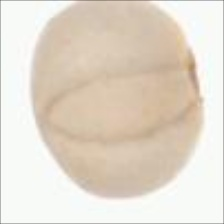L5: (42, 65, 196, 142), (178, 32, 206, 117)
L6: (27, 1, 207, 200)
